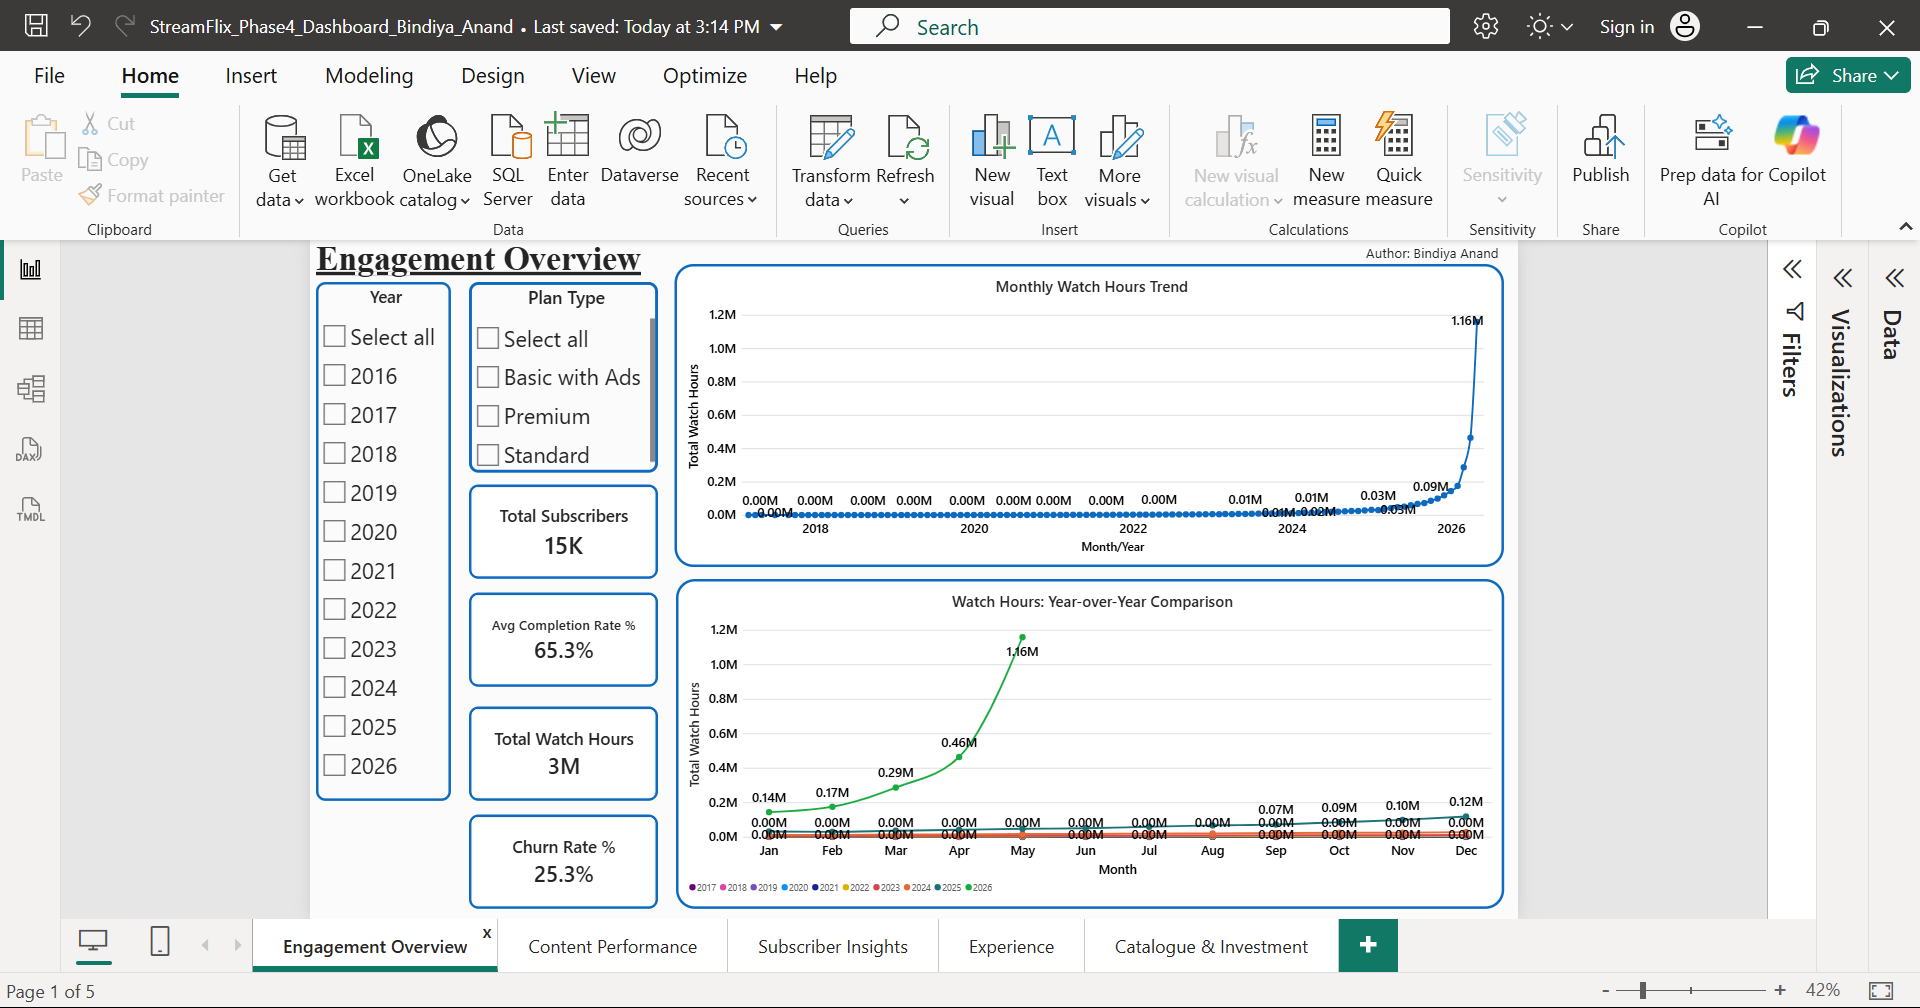

The page's visual inventory and layout, read from the dashboard file:
{"tool":"powerbi","page":{"name":"Engagement Overview","canvas":[1920,1080],"ordinal":0},"visuals":[{"type":"textbox","box":[9.5,0,544,71.6],"z":0},{"type":"cardVisual","fields":{"Data":["_Measures.Total Subscribers"]},"box":[252.9,388.9,300.6,150.3],"z":1000},{"type":"cardVisual","fields":{"Data":["_Measures.Total Watch Hours"]},"box":[252.9,742,300.6,150.3],"z":2000},{"type":"cardVisual","fields":{"Data":["_Measures.Avg Completion Rate %"]},"box":[252.9,560.7,300.6,150.3],"z":3000},{"type":"cardVisual","fields":{"Data":["_Measures.Churn Rate %"]},"box":[252.9,913.8,300.6,150.3],"z":4000},{"type":"lineChart","title":"Monthly Watch Hours Trend","fields":{"Category":["DimDate.MonthStart"],"Y":["_Measures.Total Watch Hours"]},"box":[579.8,38.2,1319.4,482],"z":5000},{"type":"lineChart","title":"Watch Hours: Year-over-Year Comparison","fields":{"Category":["DimDate.Month"],"Series":["DimDate.Year"],"Y":["_Measures.Total Watch Hours"]},"box":[582.2,539.2,1317,524.9],"z":6000},{"type":"slicer","title":"Year","fields":{"Values":["DimDate.Year"]},"box":[9.5,66.8,214.7,825.5],"z":7000},{"type":"slicer","title":"Plan Type","fields":{"Values":["subscribers.plan_type"]},"box":[252.9,66.8,300.6,303],"z":8000},{"type":"textbox","box":[1679.7,4.8,219.5,33.4],"z":9000}]}

Visuals, with their boxes on the page's 1920x1080 design canvas (x1, y1, x2, y2). These are canvas units, not pixel positions in the 1920x1008 screenshot, which may show the page scaled, cropped or inside an application window:
textbox: rect(10, 0, 554, 72)
cardVisual - _Measures.Total Subscribers: rect(253, 389, 554, 539)
cardVisual - _Measures.Total Watch Hours: rect(253, 742, 554, 892)
cardVisual - _Measures.Avg Completion Rate %: rect(253, 561, 554, 711)
cardVisual - _Measures.Churn Rate %: rect(253, 914, 554, 1064)
"Monthly Watch Hours Trend" lineChart: rect(580, 38, 1899, 520)
"Watch Hours: Year-over-Year Comparison" lineChart: rect(582, 539, 1899, 1064)
"Year" slicer: rect(10, 67, 224, 892)
"Plan Type" slicer: rect(253, 67, 554, 370)
textbox: rect(1680, 5, 1899, 38)
